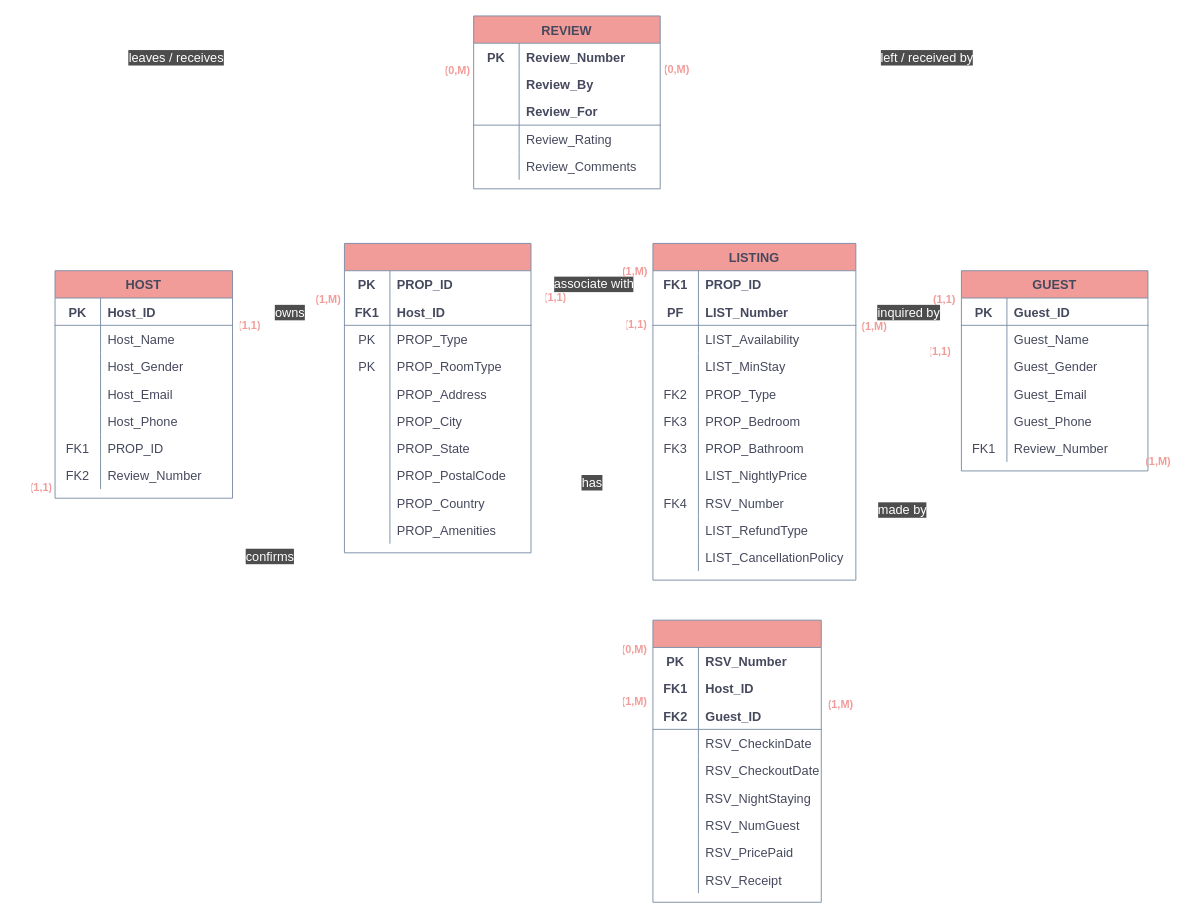
This 1198x918 diagram has some shape labels left out. The box of each missing label's shape, as (x1, y1, x2, y2) in pixels:
PROPERTY: (344, 243, 531, 553)
RESERVATION: (652, 619, 821, 902)
